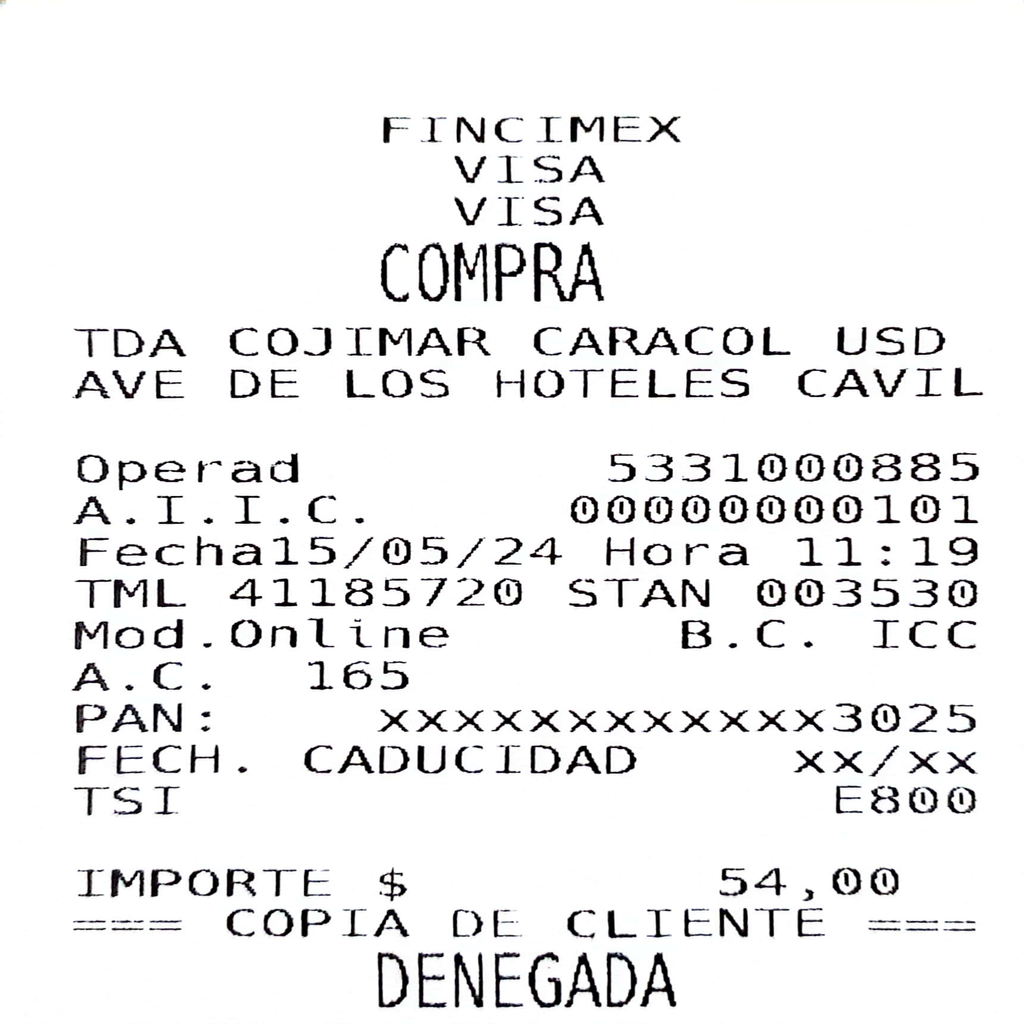recipt: (6, 4, 1018, 1020)
